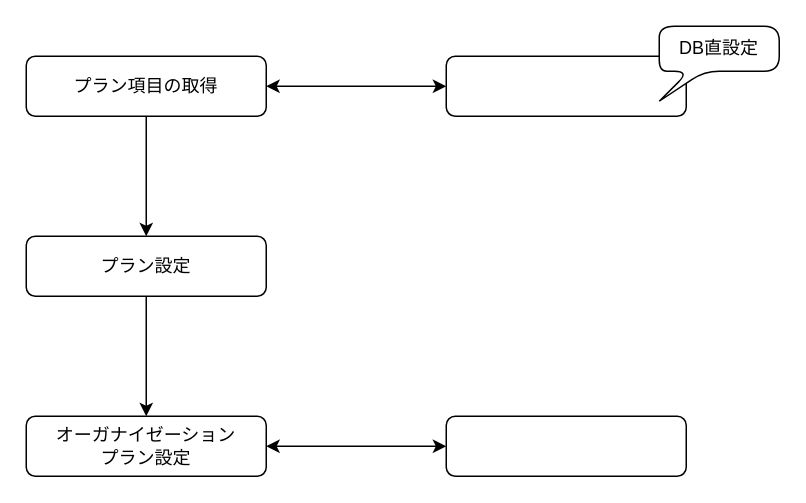
The diagram is 806 pixels wide and 503 high, and some of its shapes have lost their labels. Each missing label, with the centre of its shape:
"オーガナイゼーション プラン解除" goes at (x=565, y=445).
"プラン項目の設定" goes at (x=565, y=85).
